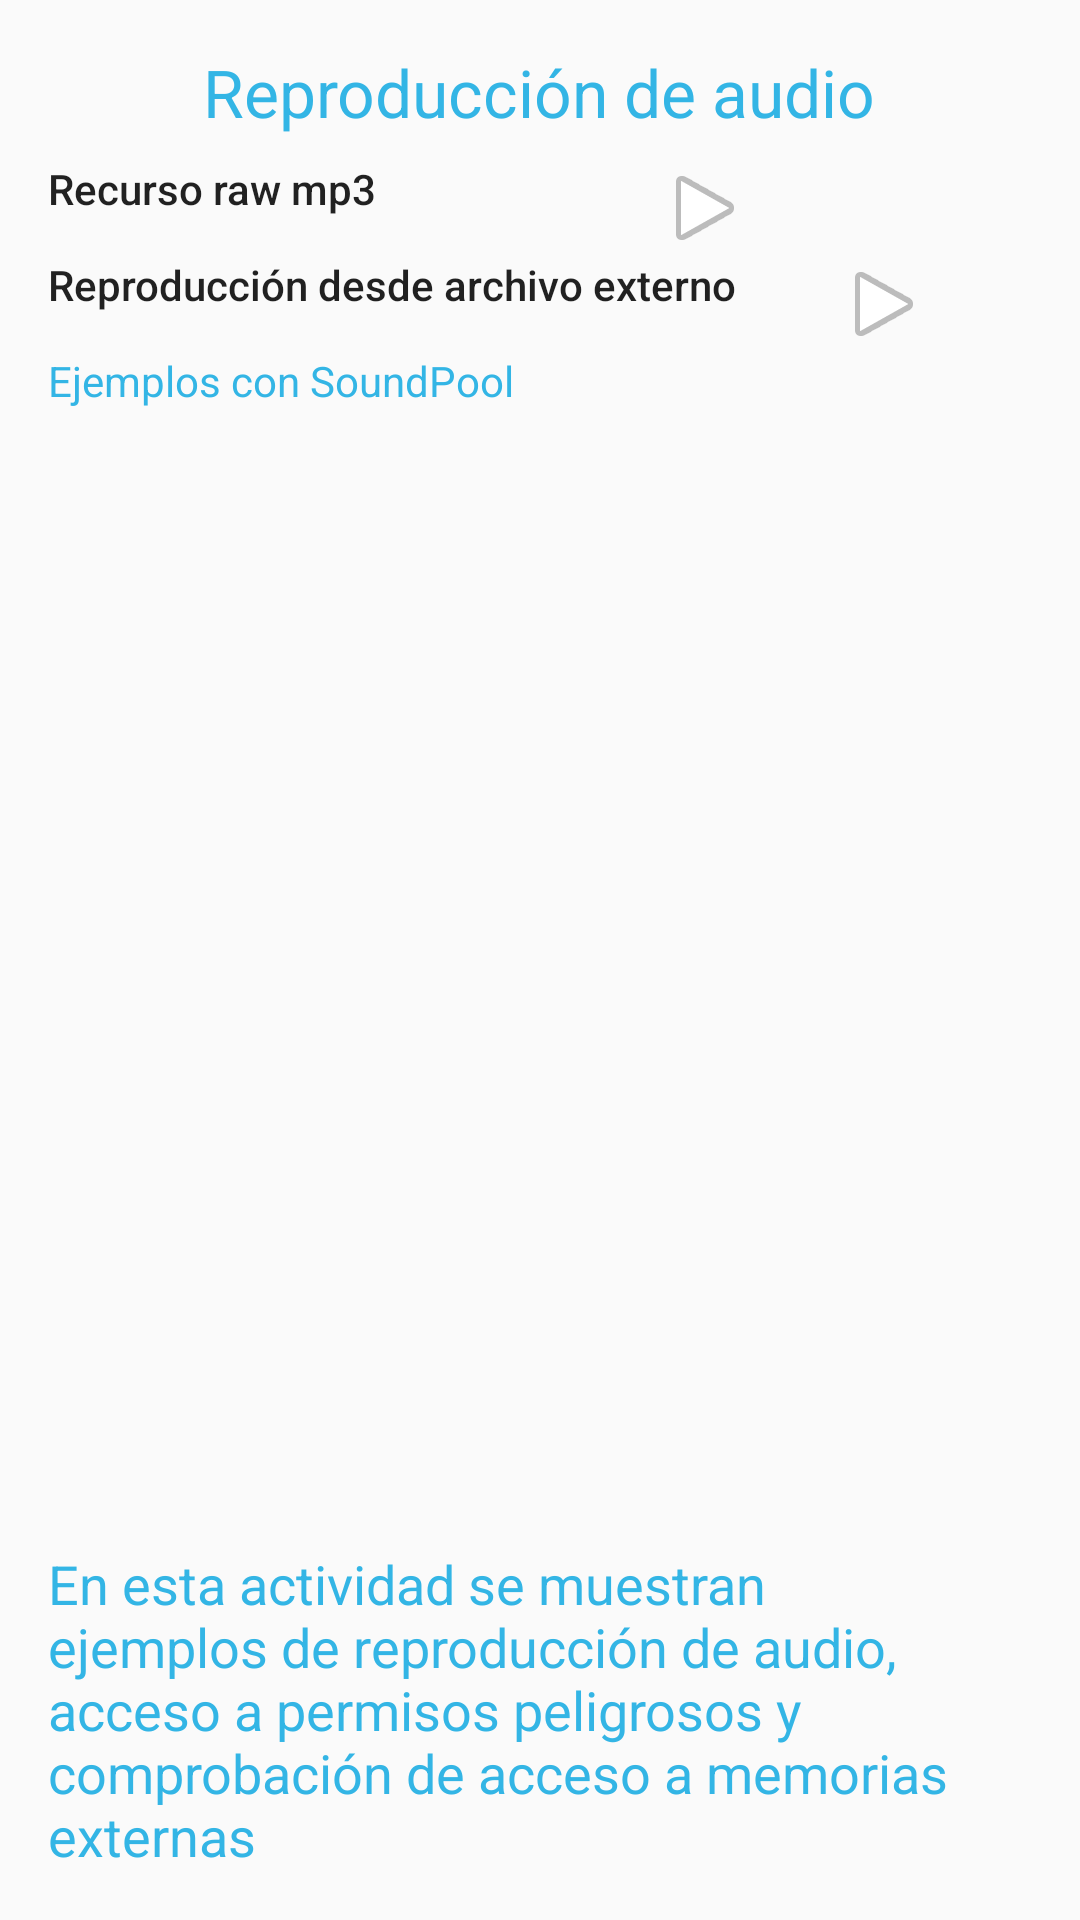

Locate icon controls on the screen. Image size 1080 × 1920, boxes as region(x1, y1, x2, y2).
Botón de reproducción: region(676, 176, 734, 240), region(855, 272, 913, 336)
